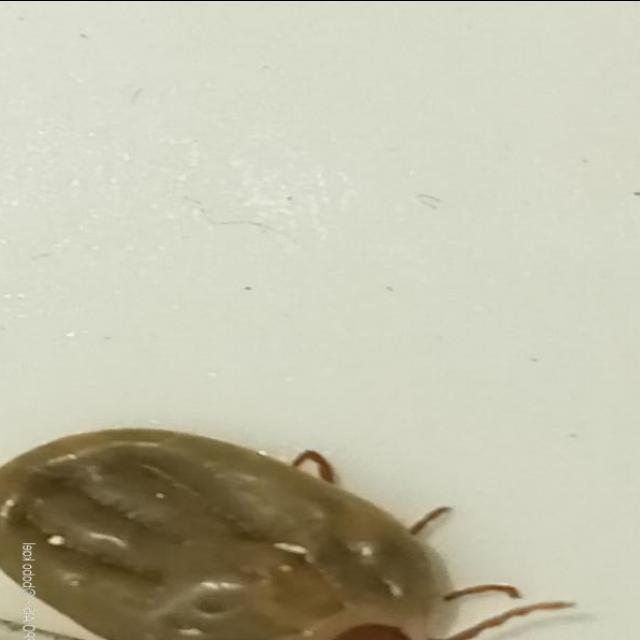Rhipicephalus Sanguineus-F-Fed: (0, 427, 571, 640)
